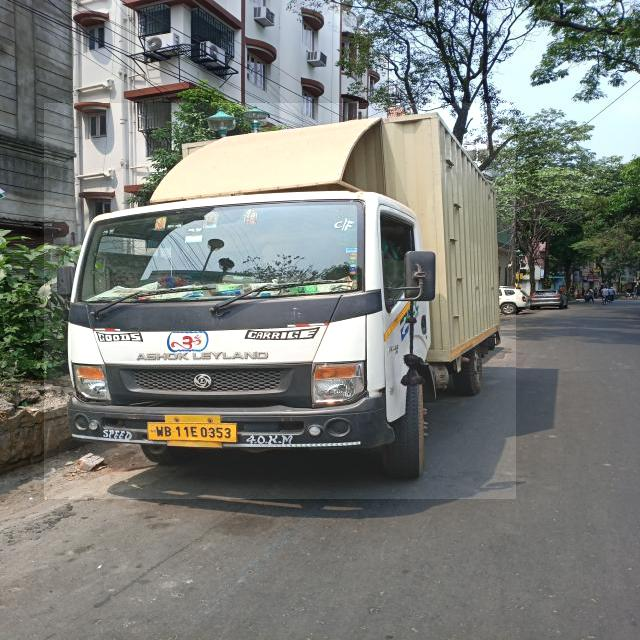Truck: (44, 103, 516, 500)
